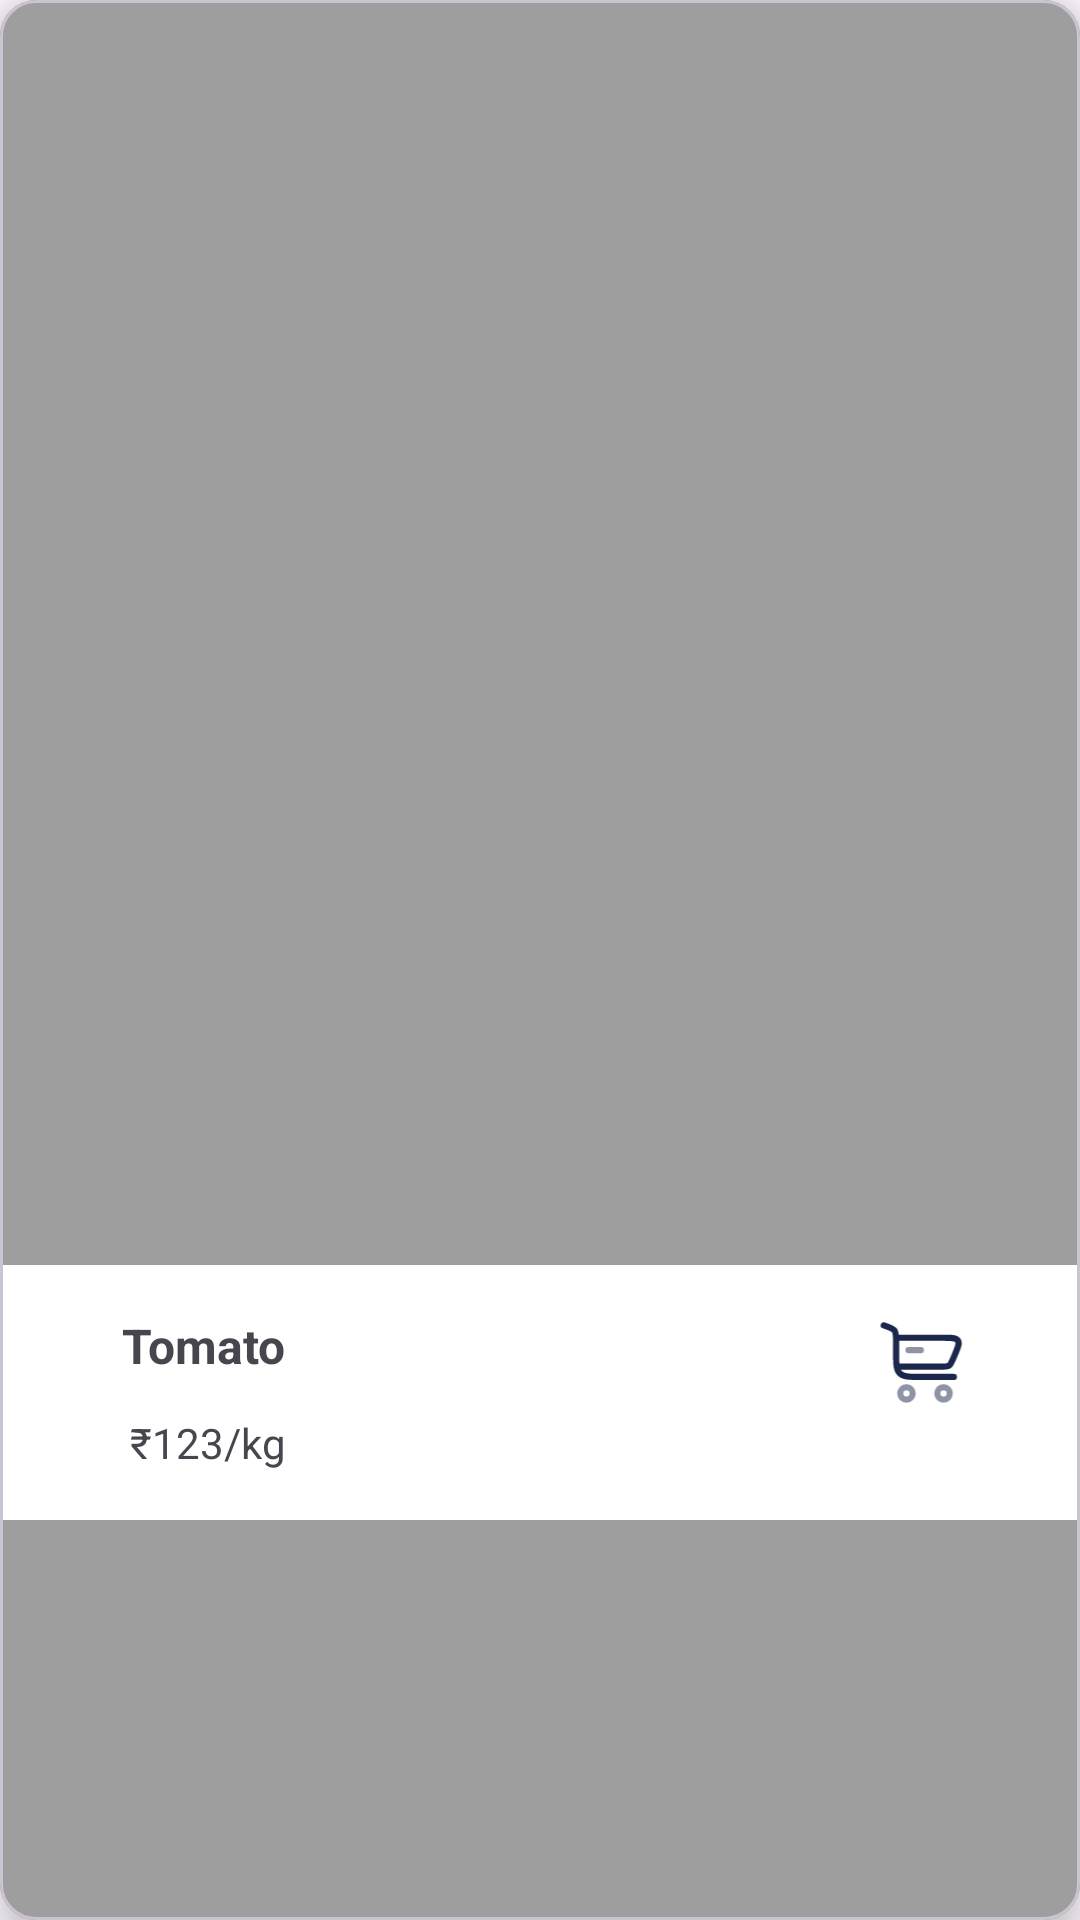

Point at icon controls on the screen. Image size 1080×1920, points as point (x, y).
cart: point (921, 1362)
